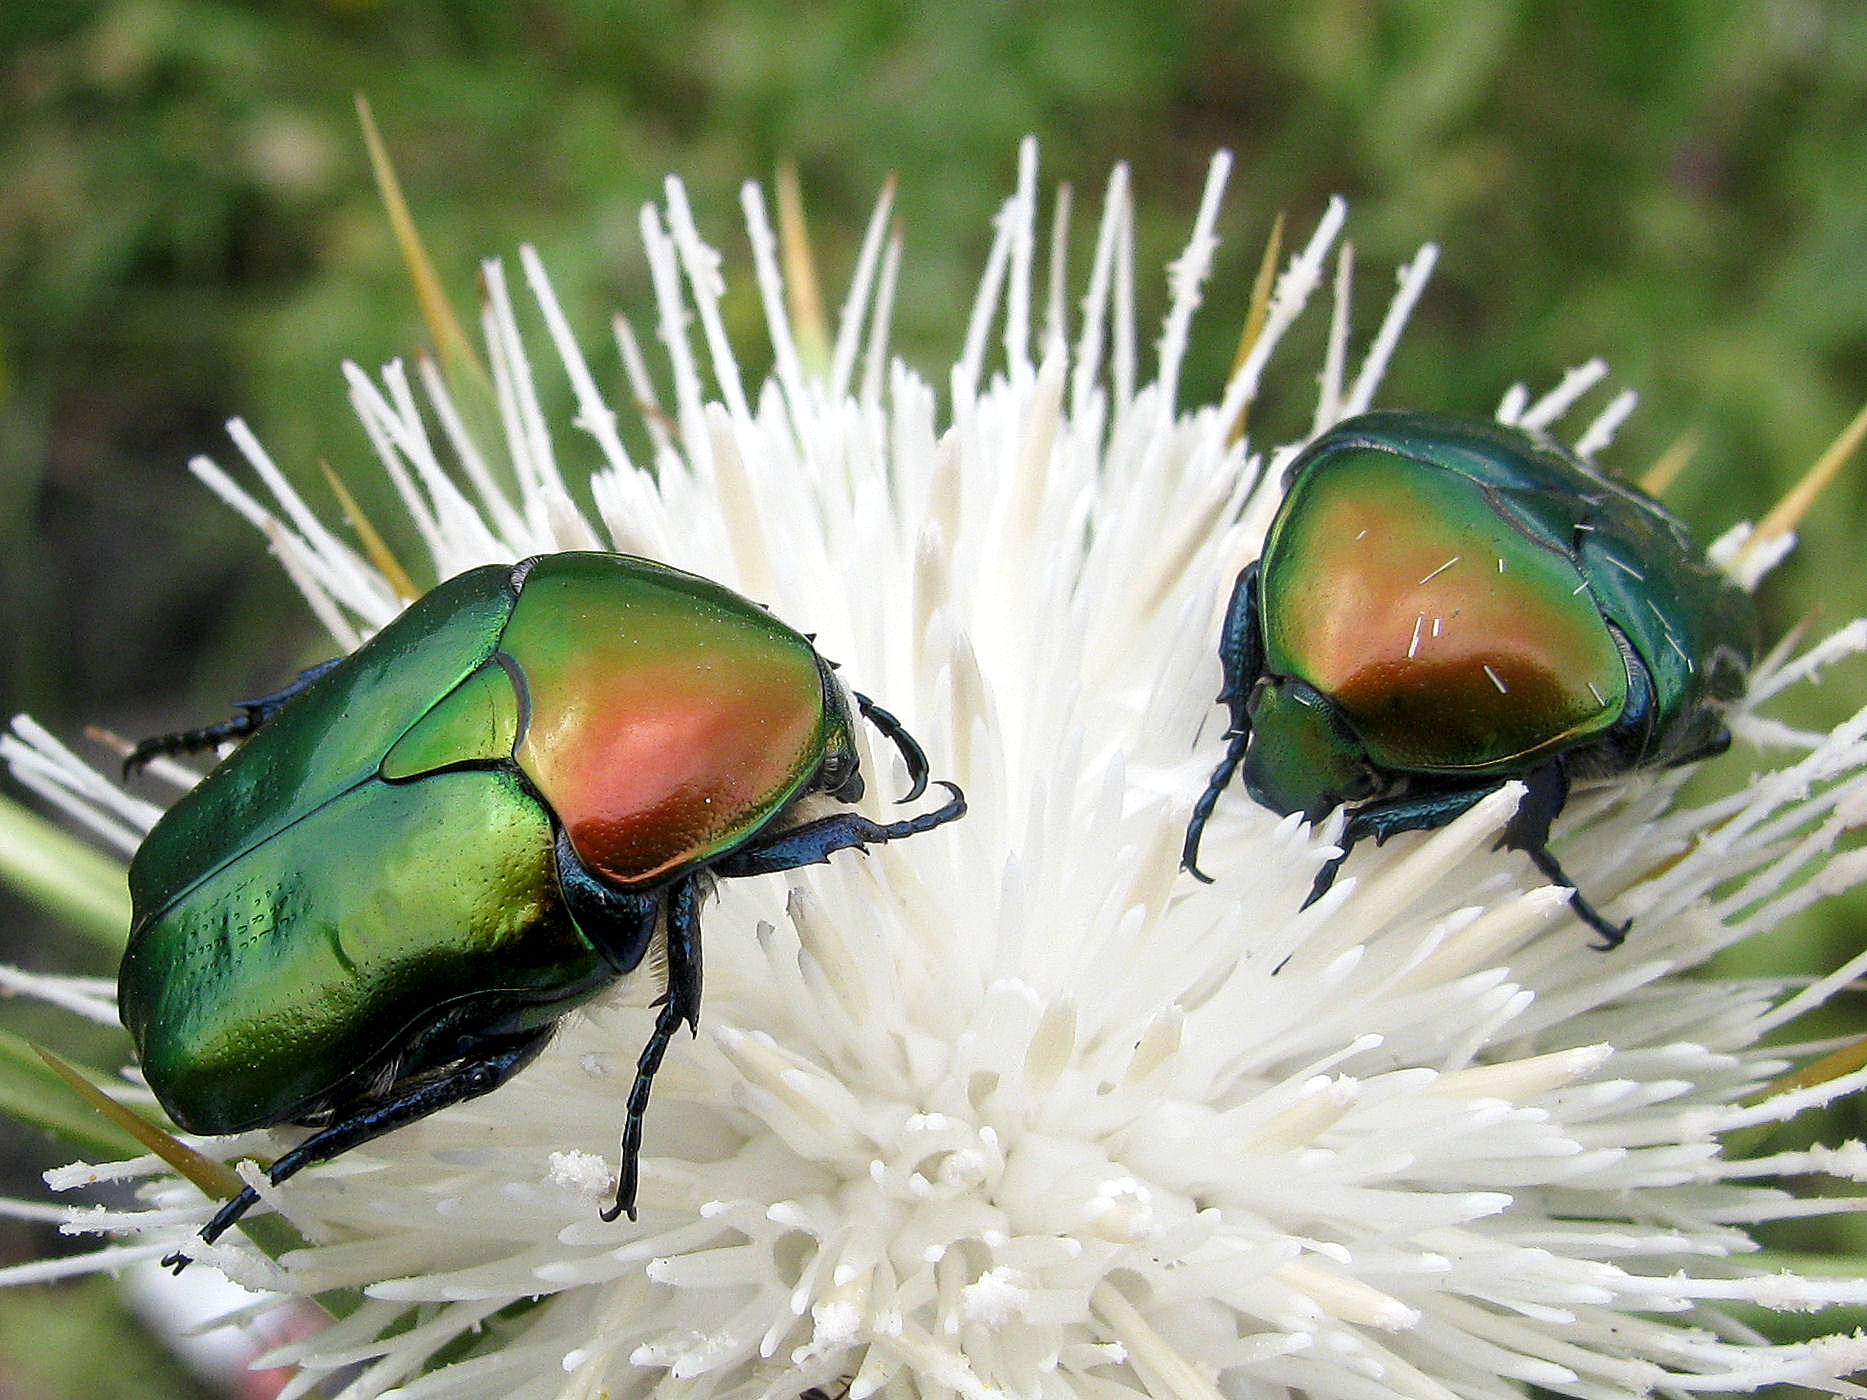Protaetia_cuprea_ignicollis: (87, 522, 1008, 1279), (1150, 376, 1782, 978)
